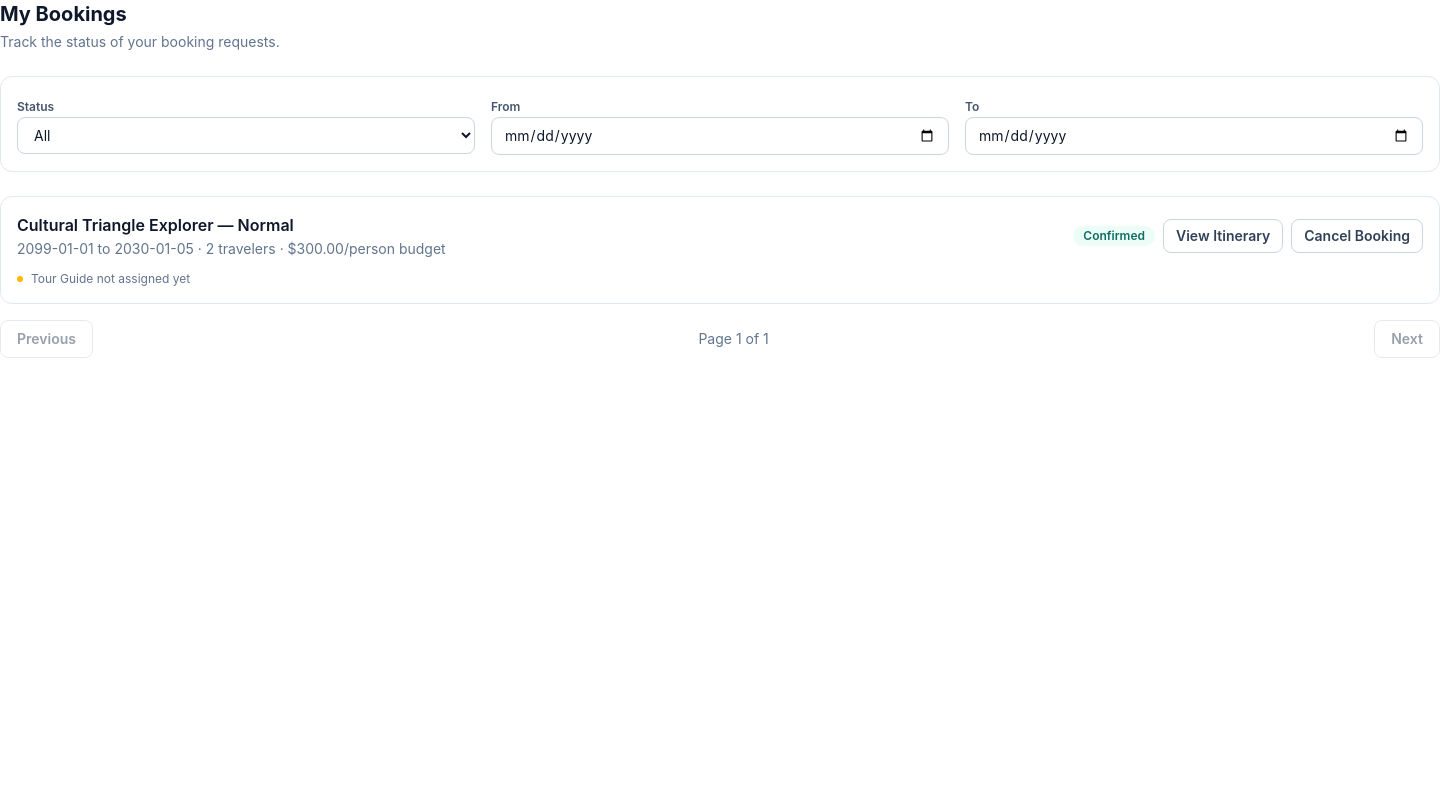
MyBookingsPage › cancels an upcoming booking through the confirm dialog
This screenshot has width=1440, height=810.
Expected: the text "Cultural Triangle Explorer — Normal" is shown, [17,215,294,235]
Click the button "Cancel Booking" at coordinates (1357, 236), box [1291,219,1423,253]
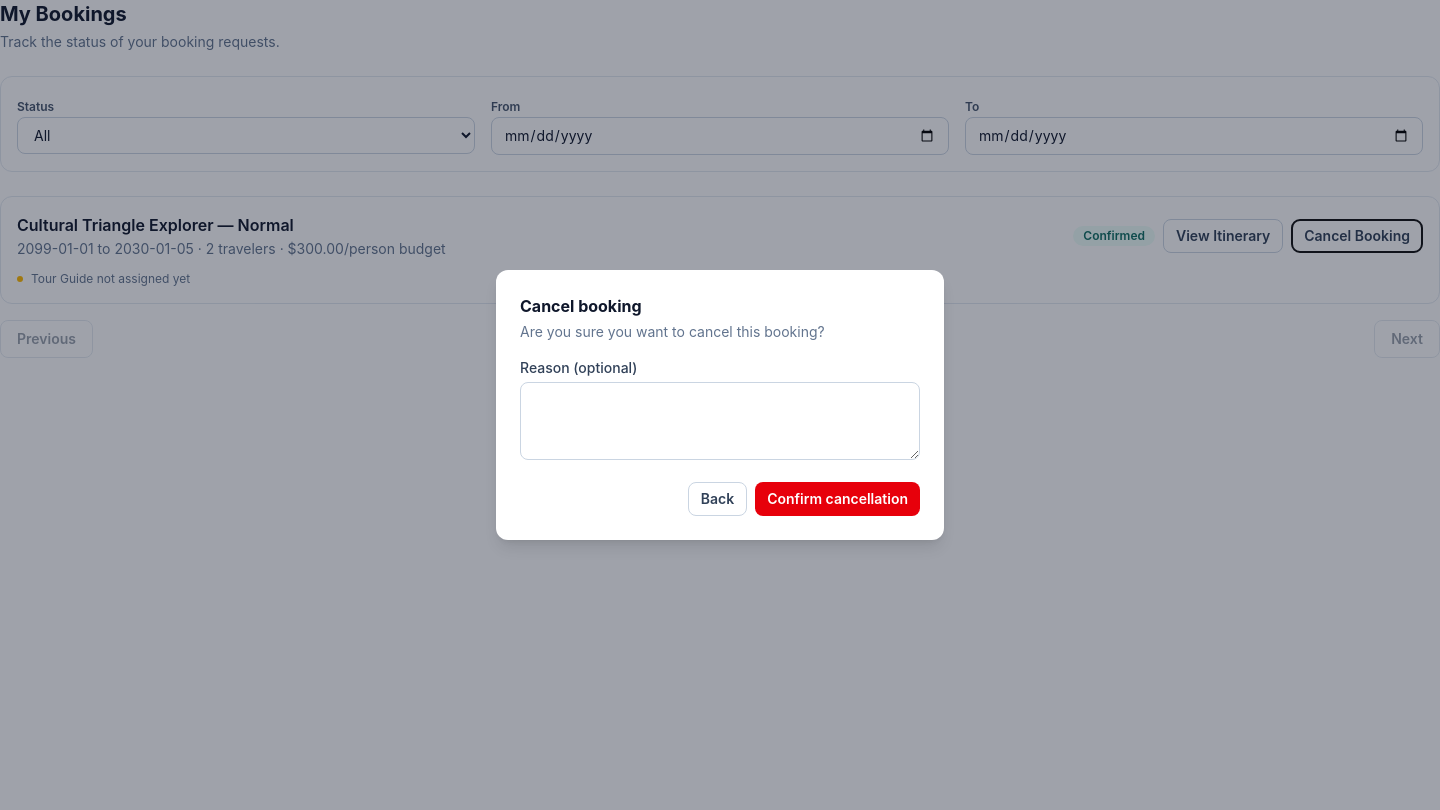
Type "Change of plans" into the text box labelled "Reason (optional)" at coordinates (720, 421), box [520,382,920,460]
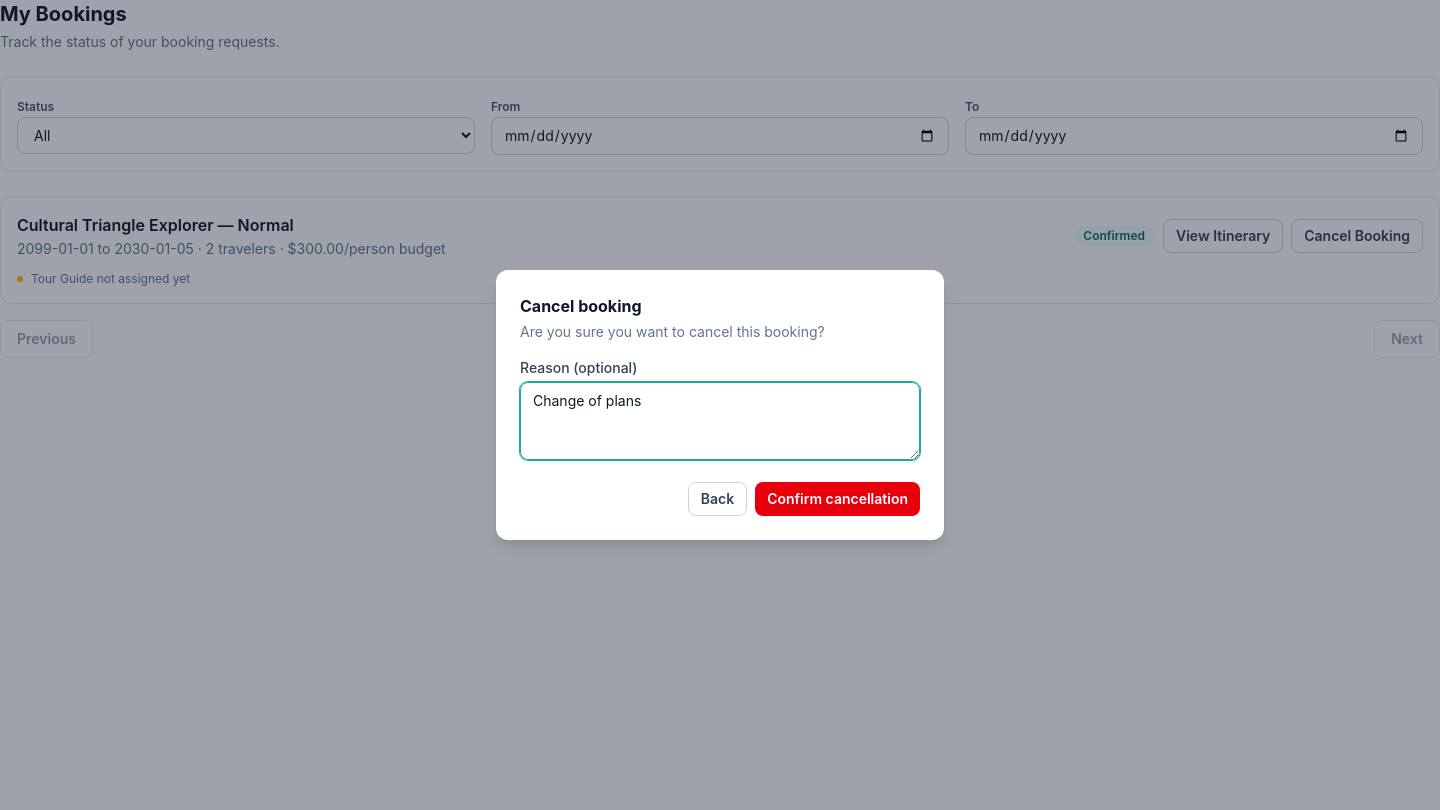
Click the button "Confirm cancellation" at coordinates (838, 499), box [755,482,920,516]
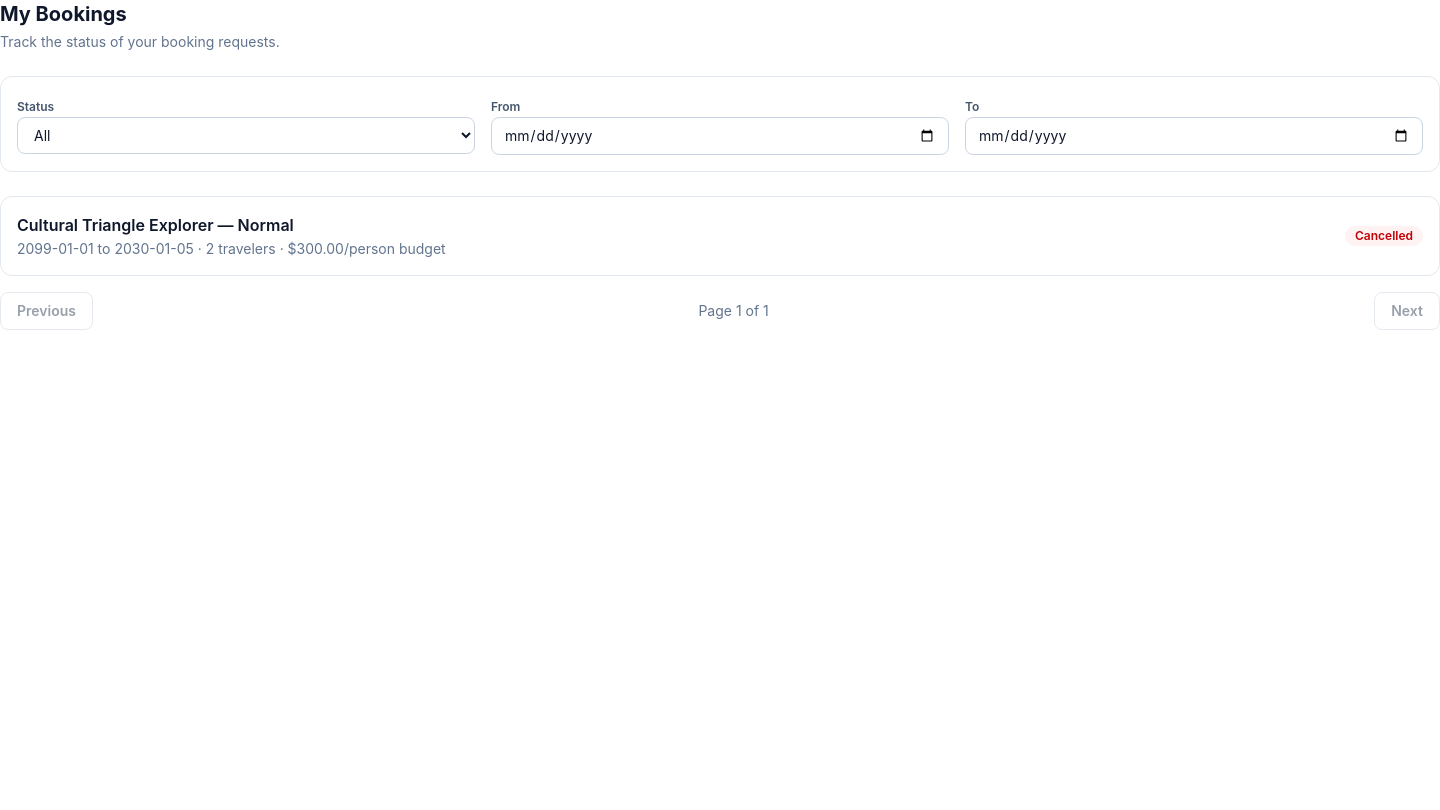
Expected: the text "Cancelled" is shown, [1345,226,1423,246]
